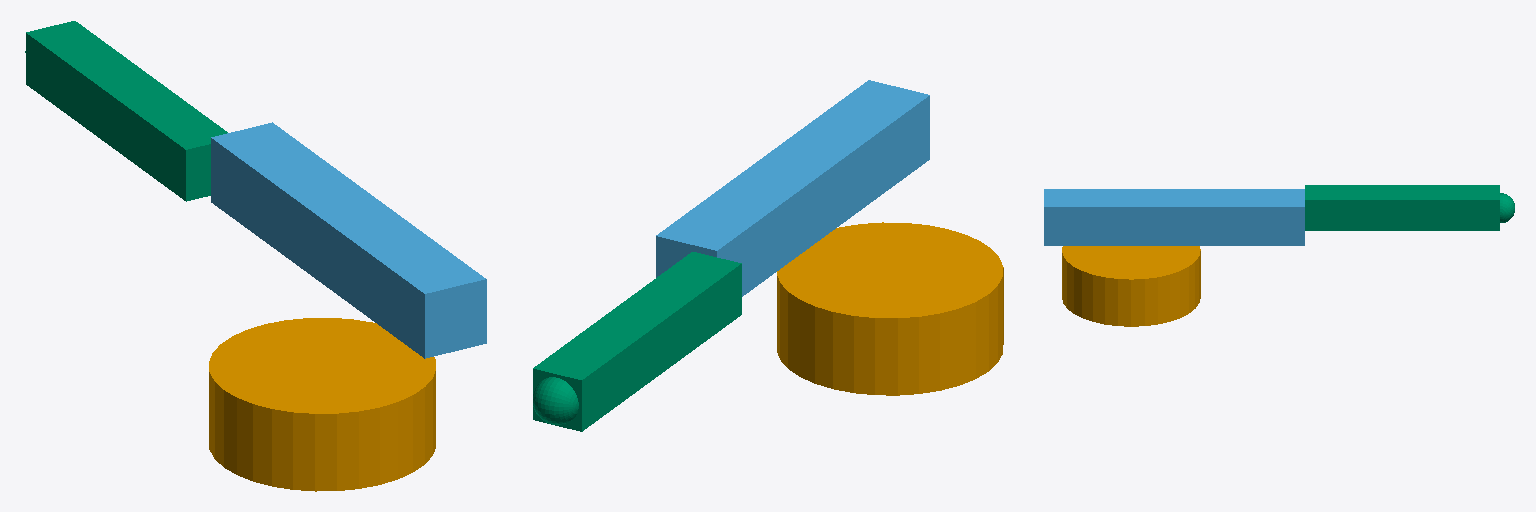
The robot description file, URDF, robot "two_link_arm":
<?xml version="1.0" encoding="utf-8"?>
<robot name="two_link_arm">
  <!-- All lengths are metres and all angles are radians in REP-103 link frames. -->
  <link name="base_link">
    <inertial>
      <origin xyz="0 0 0.06" rpy="0 0 0"/>
      <mass value="6.0"/>
      <inertia ixx="0.0456" ixy="0" ixz="0" iyy="0.0456" iyz="0" izz="0.0768"/>
    </inertial>
    <visual name="pedestal_visual">
      <origin xyz="0 0 0.06" rpy="0 0 0"/>
      <geometry><cylinder radius="0.16" length="0.12"/></geometry>
    </visual>
    <collision name="pedestal_collision">
      <origin xyz="0 0 0.06" rpy="0 0 0"/>
      <geometry><cylinder radius="0.16" length="0.12"/></geometry>
    </collision>
  </link>

  <link name="upper_arm">
    <inertial>
      <origin xyz="0.29 0.01 -0.01" rpy="0 0 0.12"/>
      <mass value="2.4"/>
      <inertia ixx="0.004" ixy="0.0015" ixz="-0.0006" iyy="0.074" iyz="0.0004" izz="0.074"/>
    </inertial>
    <visual name="upper_arm_visual">
      <origin xyz="0.30 0 0" rpy="0 0 0"/>
      <geometry><box size="0.60 0.10 0.10"/></geometry>
    </visual>
    <collision name="upper_arm_collision">
      <origin xyz="0.30 0 0" rpy="0 0 0"/>
      <geometry><box size="0.60 0.10 0.10"/></geometry>
    </collision>
  </link>

  <link name="forearm">
    <inertial>
      <origin xyz="0.225 -0.005 0.01" rpy="0.10 0 0"/>
      <mass value="1.2"/>
      <inertia ixx="0.00128" ixy="-0.0003" ixz="0.0002" iyy="0.02089" iyz="0.0001" izz="0.02089"/>
    </inertial>
    <visual name="forearm_visual">
      <origin xyz="0.225 0 0" rpy="0 0 0"/>
      <geometry><box size="0.45 0.08 0.08"/></geometry>
    </visual>
    <visual name="tip_marker">
      <origin xyz="0.45 0 0" rpy="0 0 0"/>
      <geometry><sphere radius="0.035"/></geometry>
    </visual>
    <collision name="forearm_collision">
      <origin xyz="0.225 0 0" rpy="0 0 0"/>
      <geometry><box size="0.45 0.08 0.08"/></geometry>
    </collision>
  </link>

  <!-- Shoulder travel is +/- pi/2 rad, limited to 8 N m and 1.5 rad/s. -->
  <joint name="shoulder" type="revolute">
    <parent link="base_link"/>
    <child link="upper_arm"/>
    <origin xyz="0.10 -0.20 0.25" rpy="0 0 1.5707963267948966"/>
    <axis xyz="0 0 1"/>
    <limit lower="-1.5707963267948966" upper="1.5707963267948966" effort="8.0" velocity="1.5"/>
  </joint>

  <!-- Elbow travel is [-1.2, 1.8] rad, limited to 3 N m and 2 rad/s. -->
  <joint name="elbow" type="revolute">
    <parent link="upper_arm"/>
    <child link="forearm"/>
    <origin xyz="0.60 0.05 0" rpy="1.5707963267948966 0 0"/>
    <axis xyz="0 0 1"/>
    <limit lower="-1.2" upper="1.8" effort="3.0" velocity="2.0"/>
  </joint>
</robot>

--- Render facts (derived) ---
The picture shows the robot from 3 angles, left to right: view 1: azimuth 30°, elevation 25°; view 2: azimuth 150°, elevation 25°; view 3: azimuth 270°, elevation 25°; orthographic projection.
Robot: two_link_arm — 3 links, 2 joints (2 revolute); root link base_link; default pose: every joint at zero.
Links seen in each view (by area): view 1: base_link, upper_arm, forearm; view 2: base_link, upper_arm, forearm; view 3: upper_arm, base_link, forearm.
Link boxes in pixels (x1,y1,x2,y2): base_link: (209,318,435,491); upper_arm: (211,122,486,358); forearm: (25,21,227,201); base_link: (777,222,1003,395); upper_arm: (656,80,929,296); forearm: (533,252,741,431); upper_arm: (1044,189,1304,245); base_link: (1062,246,1200,326); forearm: (1305,185,1514,230).
Bounding box of the posed robot: 0.32 × 1.08 × 0.3 m (x, y, z).
Geometry: primitives only (box / cylinder / sphere), no mesh files.
